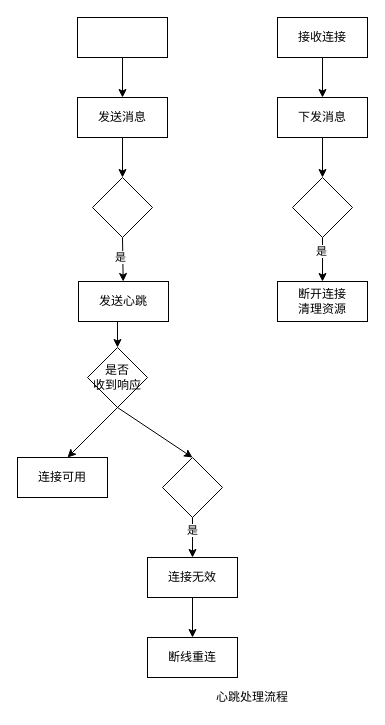
Some shapes in this 385 by 725 pixel diagram are drawn without their labels. The shapes that lost their labels are listed below. From the top down, each one's centre as x and y in pixels, then its label:
At (122,37): "建立连接".
At (122,207): "是否空闲".
At (322,207): "心跳是否过期".
At (192,487): "是否连续多次没 收到响应".
